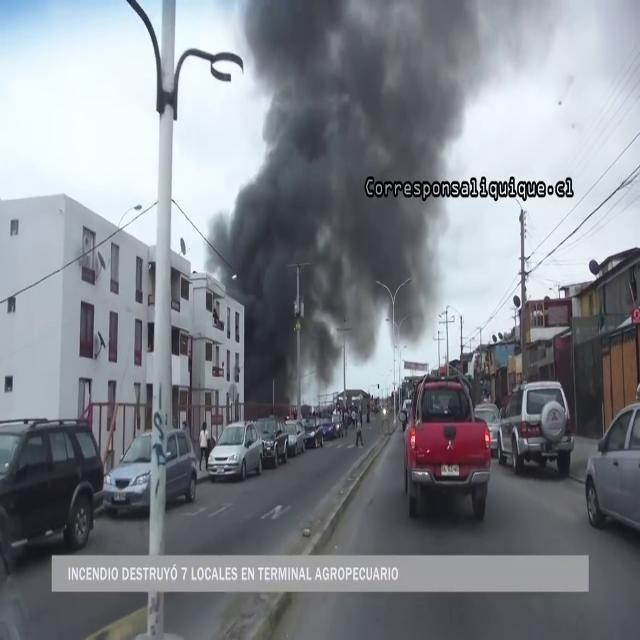Smoke: (215, 0, 482, 390)
